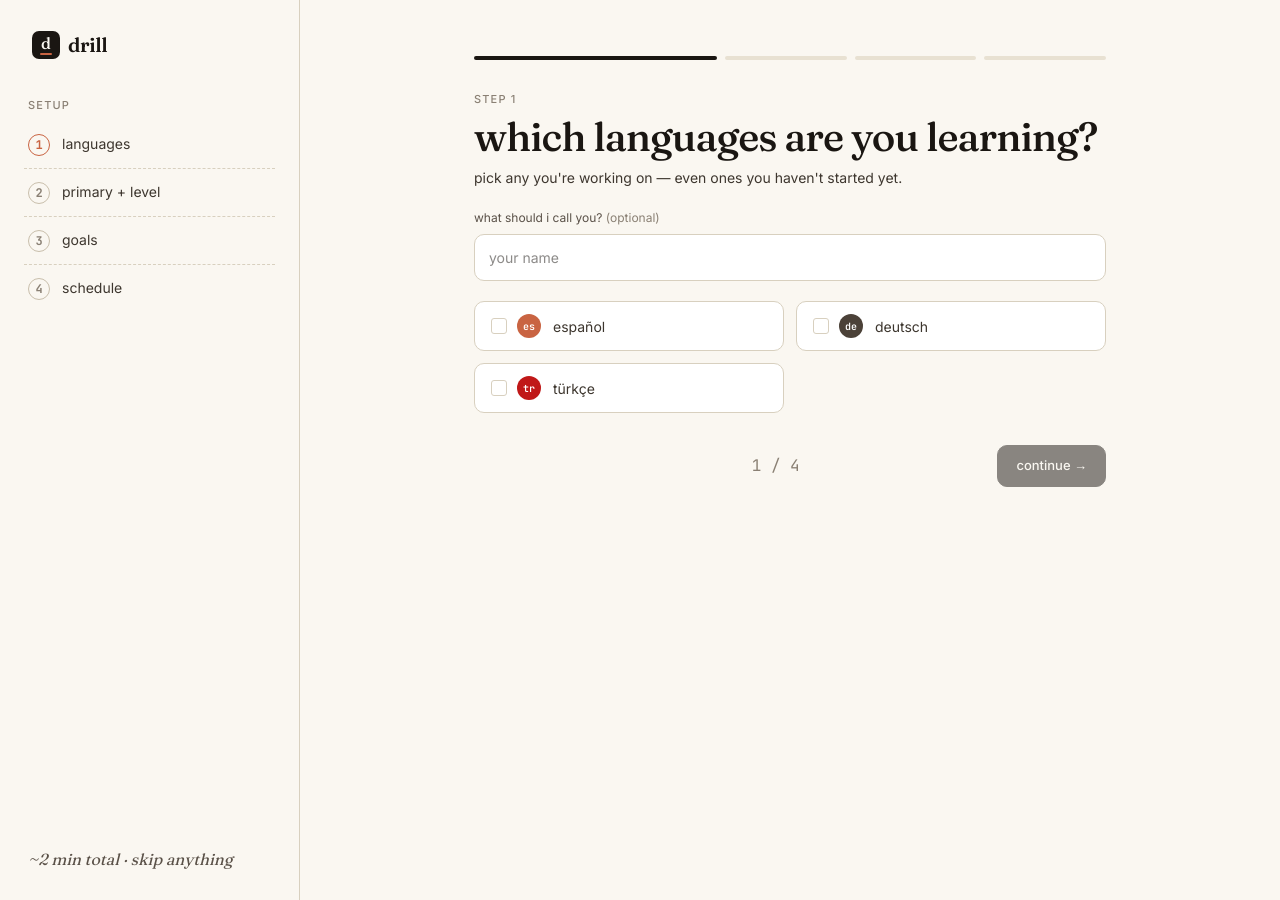
Test: OnboardingPage › shows the generic "something went wrong — try again." message on a 5xx error
Click the checkbox labelled "es español": (579, 326) [474,302,784,352]
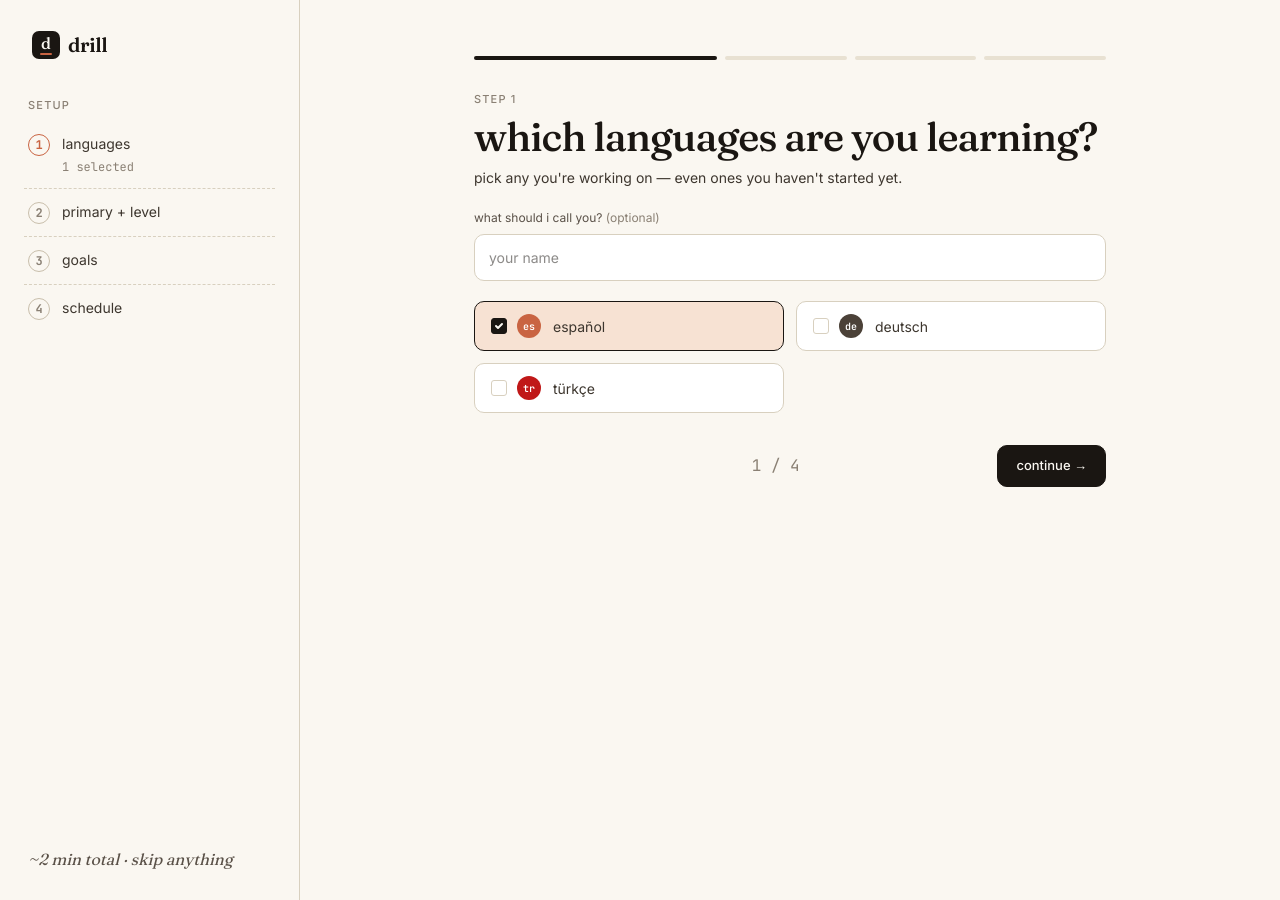
Click the button with test id "wizard-footer-primary": (1052, 466) [997,446,1106,487]
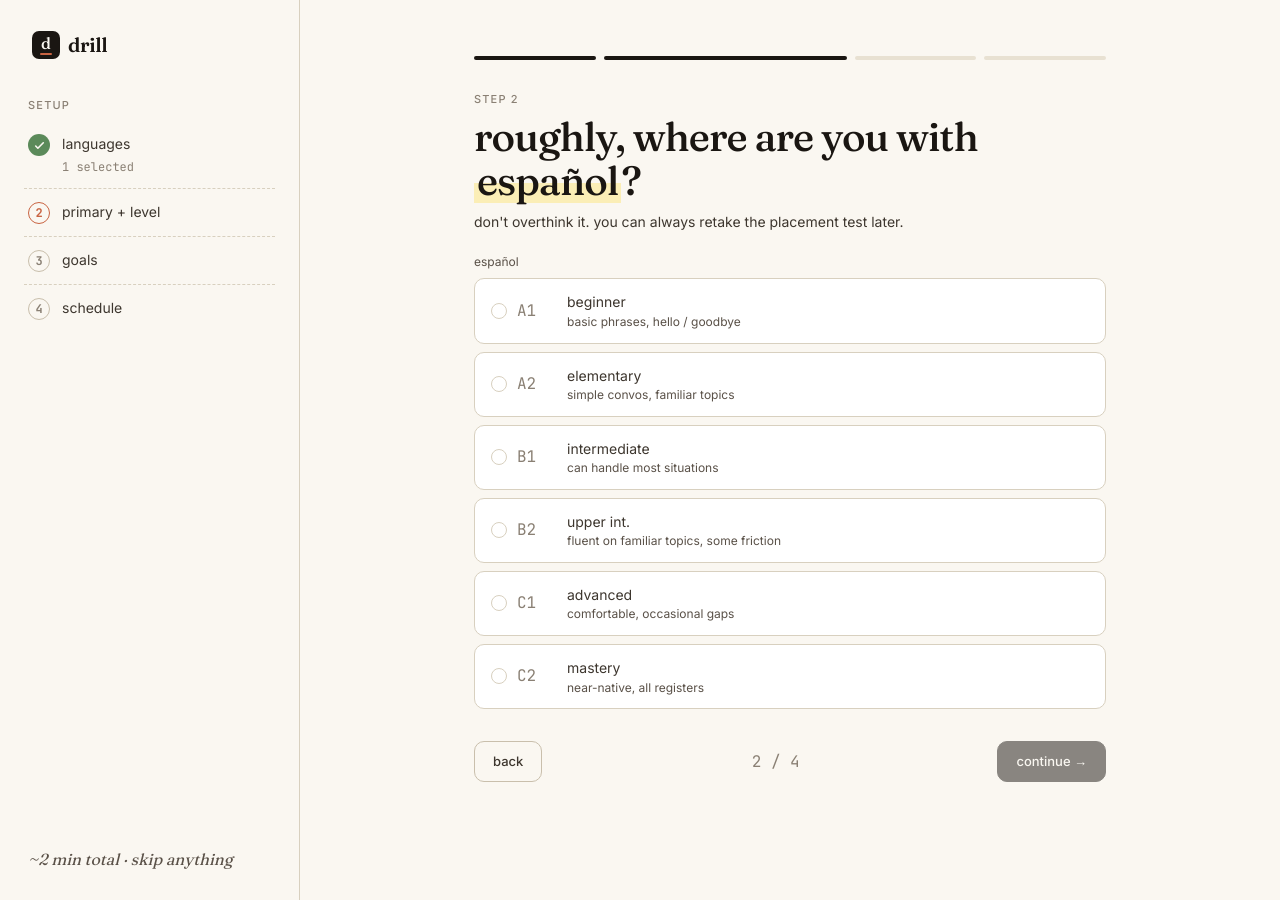
Click the radio button labelled "B2 upper int. fluent on familiar topics, some friction": (599, 521) [474,498,1106,563]
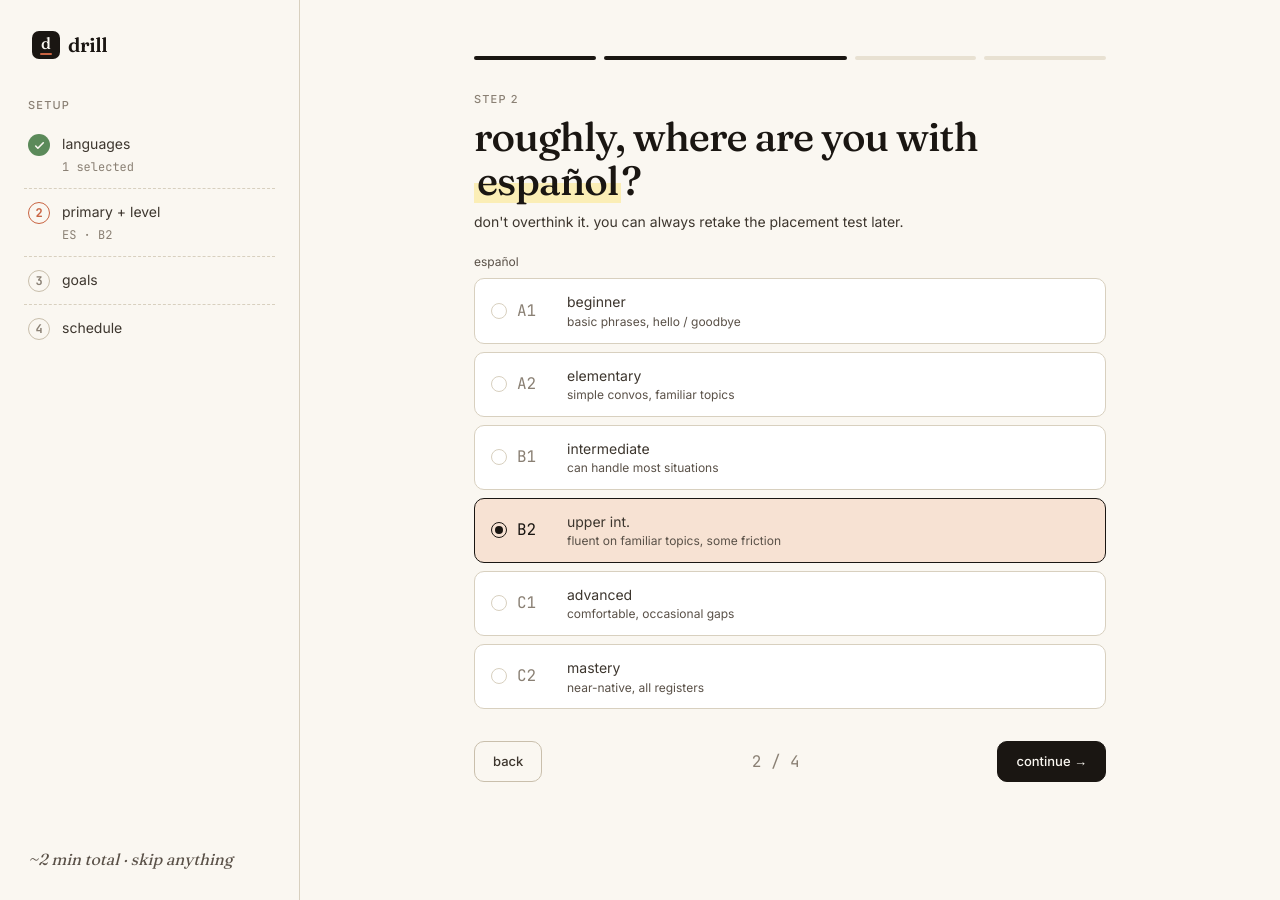
Click the button with test id "wizard-footer-primary": (1052, 762) [997,741,1106,782]
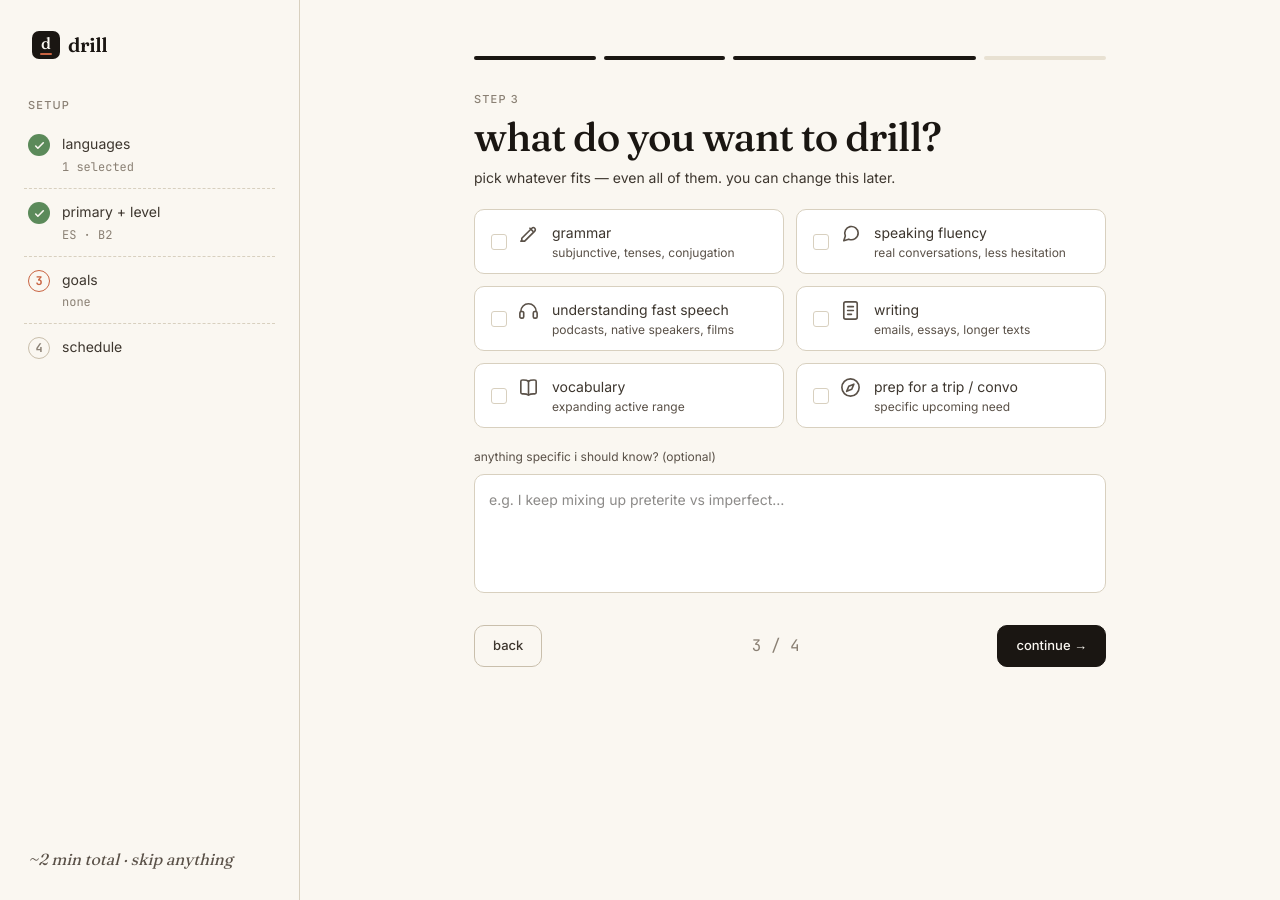
Expected: the element named "goals" is shown, [474,209,1106,428]
Click the button with test id "wizard-footer-primary": (1052, 646) [997,625,1106,667]
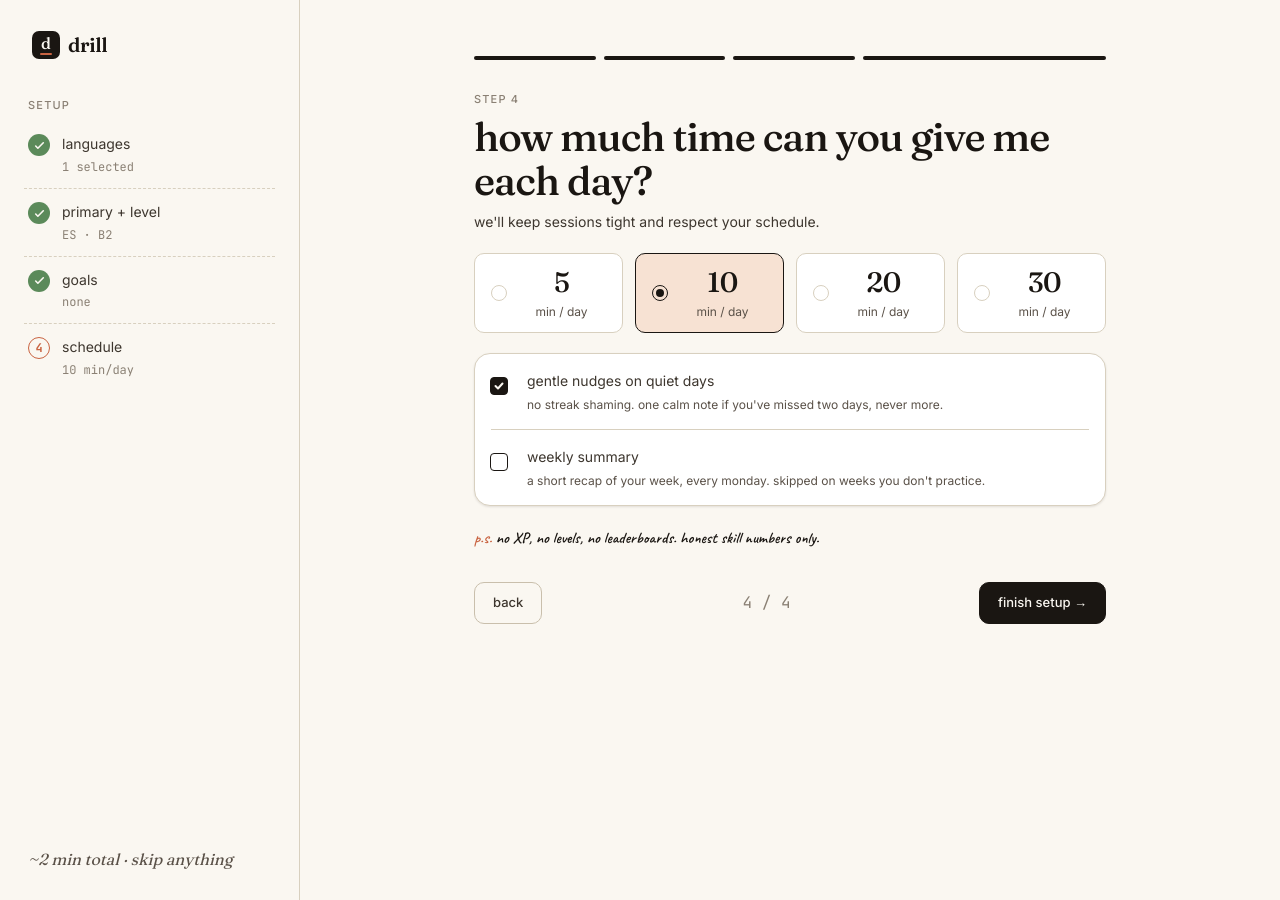
Expected: the element named "daily time" is shown, [474,253,1106,333]
Click the button "finish setup →": (1042, 603) [979,582,1106,624]
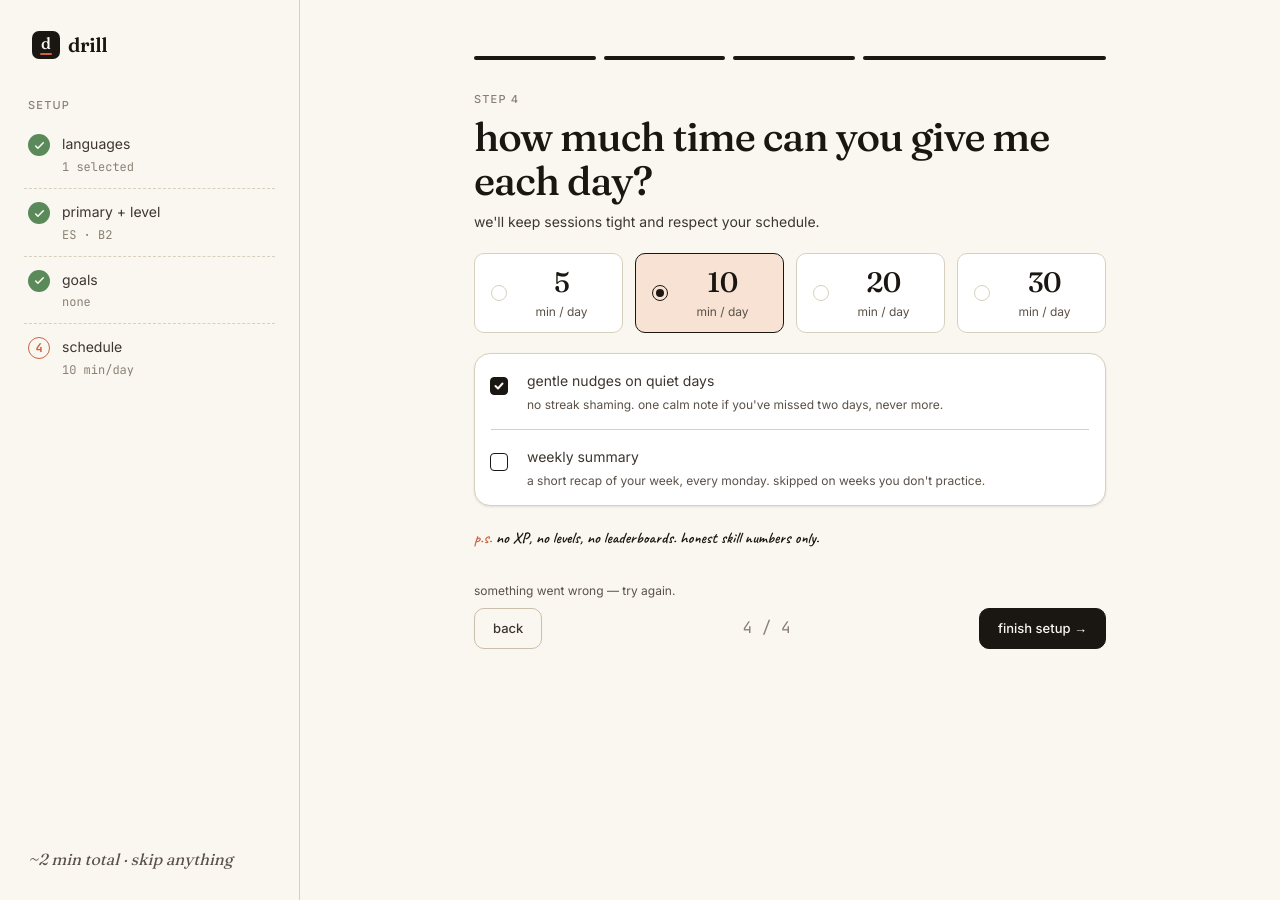
Expected: the message reads "something went wrong — try again.", [474,583,675,598]
